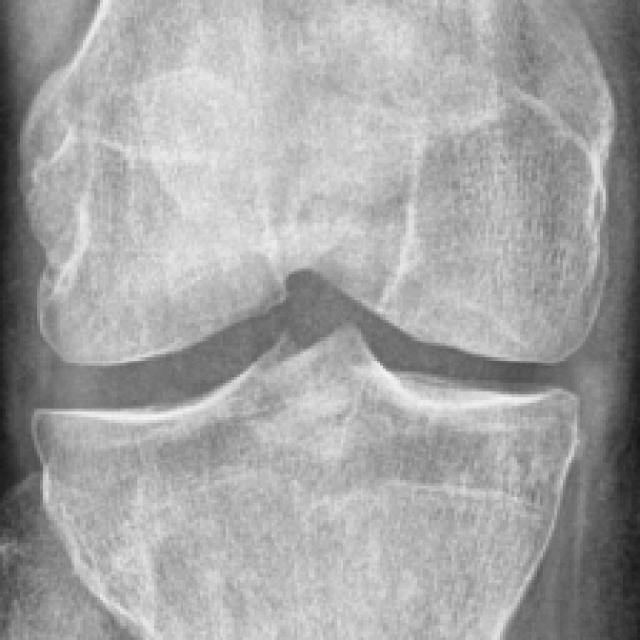femur: (16, 1, 614, 364)
tibia: (30, 331, 578, 640)
